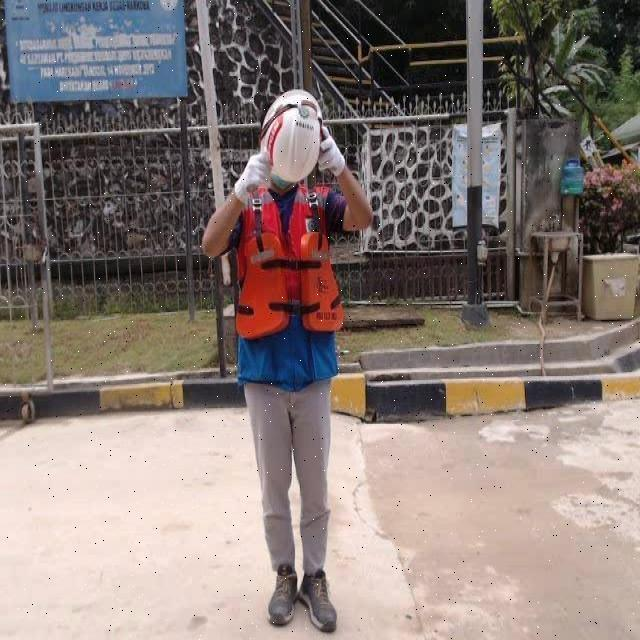Hard_hat: (265, 86, 323, 179)
Vest: (235, 188, 338, 345)
